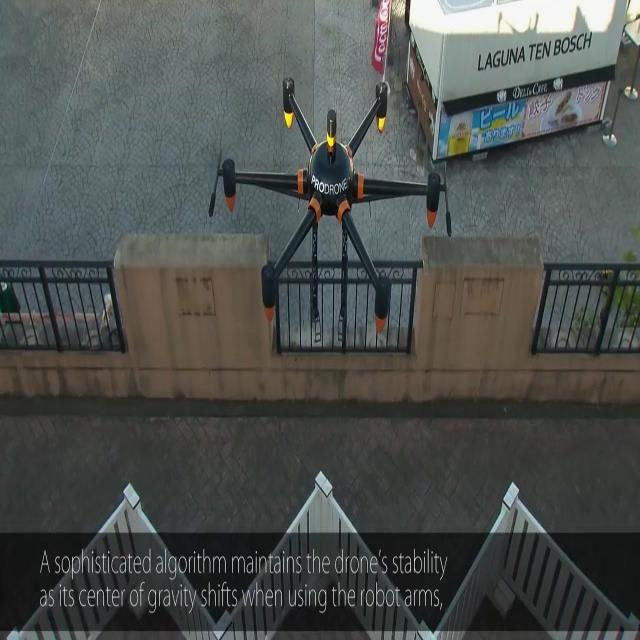drone: (213, 72, 453, 350)
